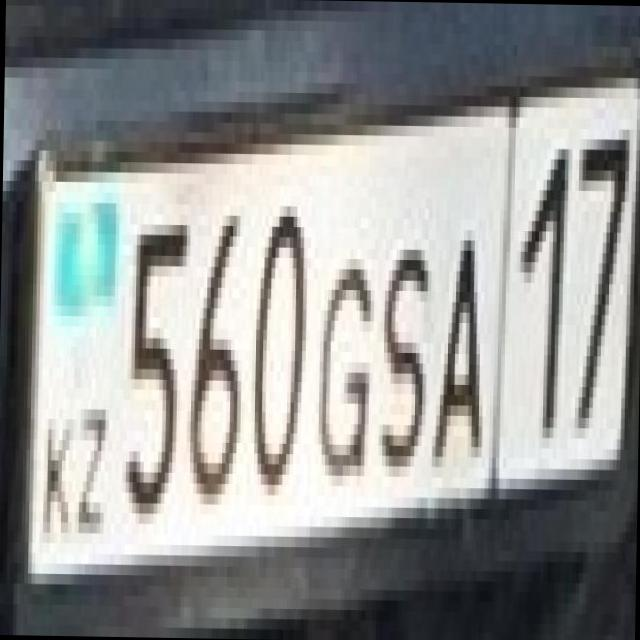0: (242, 184, 308, 485)
1: (507, 117, 569, 428)
5: (118, 203, 184, 514), (368, 228, 436, 456)
6: (182, 183, 244, 504)
7: (560, 118, 626, 418)
A: (428, 208, 489, 458)
G: (307, 237, 371, 476)
